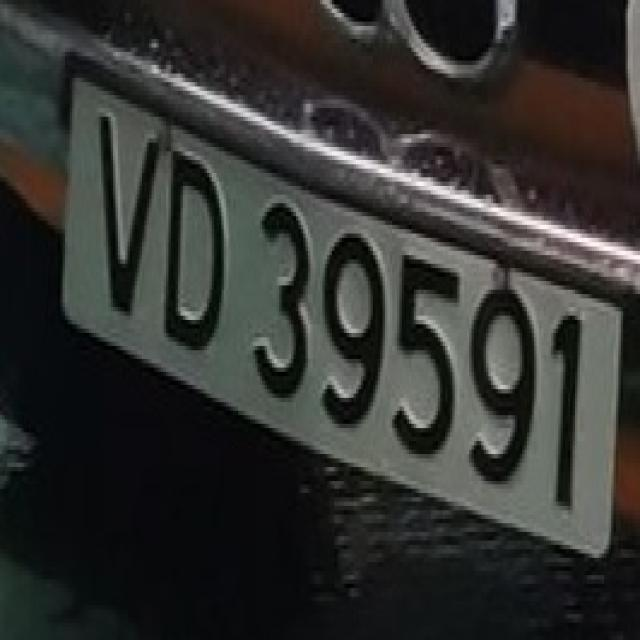1: (530, 298, 594, 506)
3: (240, 186, 318, 398)
5: (382, 238, 464, 454)
9: (457, 276, 544, 484), (308, 217, 390, 432)
D: (152, 134, 238, 355)
V: (82, 95, 168, 320)
